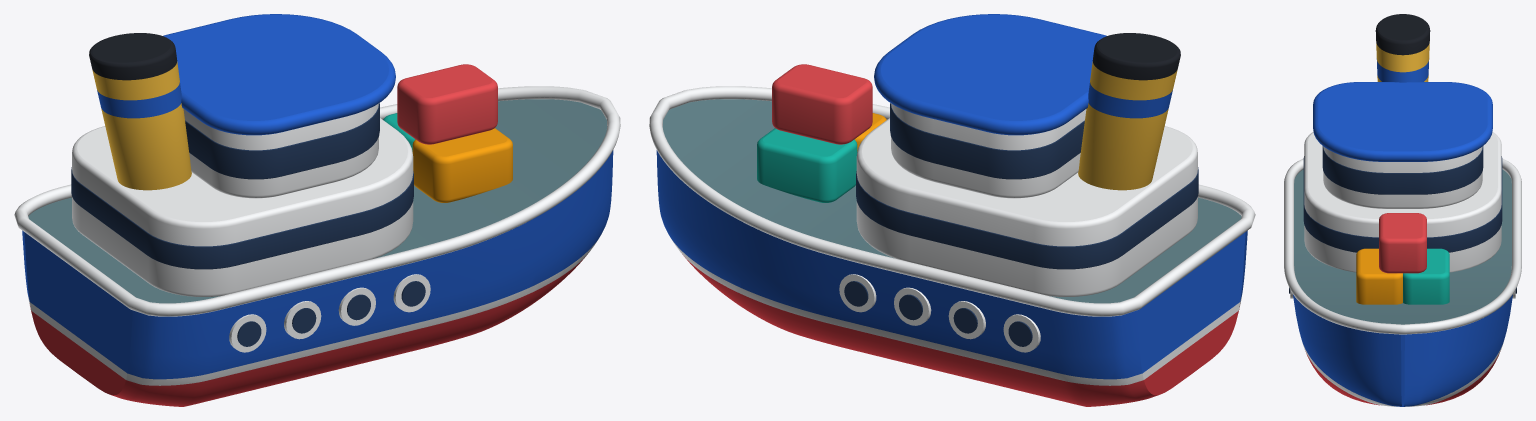
Rendered from ferry.glb.
3 views of the same model, side by side, from view 1: azimuth 30°, elevation 25°; view 2: azimuth 150°, elevation 25°; view 3: azimuth 270°, elevation 25° (orthographic). The views are drawn at different scales.
Visible parts, largest first — view 1: hull, deck.001, bridge-roof, deck, funnel, rub-rail, deck-windows, container-2, bridge, bridge-windows, container-0, ferry-white (+1 smaller); view 2: hull, deck.001, bridge-roof, deck, funnel, rub-rail, deck-windows, container-2, bridge, bridge-windows, container-1, ferry-white (+1 smaller); view 3: hull, bridge-roof, deck.001, deck, rub-rail, bridge, bridge-windows, funnel, container-2, deck-windows, container-0, container-1.
Boxes of the visible parts, bbox=[...] form: hull: bbox=[22, 150, 613, 406]; deck.001: bbox=[72, 118, 413, 296]; bridge-roof: bbox=[163, 14, 395, 135]; deck: bbox=[28, 99, 607, 303]; funnel: bbox=[89, 33, 191, 190]; rub-rail: bbox=[14, 86, 620, 316]; deck-windows: bbox=[71, 167, 413, 269]; container-2: bbox=[397, 64, 497, 144]; bridge: bbox=[183, 103, 378, 198]; bridge-windows: bbox=[185, 103, 379, 179]; container-0: bbox=[412, 128, 512, 202]; ferry-white: bbox=[229, 274, 430, 352]; hull: bbox=[656, 150, 1247, 406]; deck.001: bbox=[856, 118, 1197, 296]; bridge-roof: bbox=[874, 14, 1106, 135]; deck: bbox=[662, 99, 1241, 303]; funnel: bbox=[1078, 33, 1180, 190]; rub-rail: bbox=[649, 86, 1255, 316]; deck-windows: bbox=[856, 167, 1198, 269]; container-2: bbox=[772, 64, 872, 144]; bridge: bbox=[891, 103, 1086, 198]; bridge-windows: bbox=[890, 103, 1084, 179]; container-1: bbox=[757, 128, 857, 202]; ferry-white: bbox=[839, 274, 1040, 352]; hull: bbox=[1293, 294, 1512, 406]; bridge-roof: bbox=[1313, 82, 1492, 161]; deck.001: bbox=[1304, 132, 1501, 272]; deck: bbox=[1294, 169, 1511, 324]; rub-rail: bbox=[1284, 158, 1521, 334]; bridge: bbox=[1323, 146, 1482, 208]; bridge-windows: bbox=[1322, 146, 1483, 194]; funnel: bbox=[1375, 14, 1430, 82]; container-2: bbox=[1379, 213, 1426, 273]; deck-windows: bbox=[1303, 156, 1502, 252]; container-0: bbox=[1356, 248, 1402, 304]; container-1: bbox=[1403, 248, 1449, 304].
Bounding box in the file's own units: 7.36 × 4.3 × 3.76.
